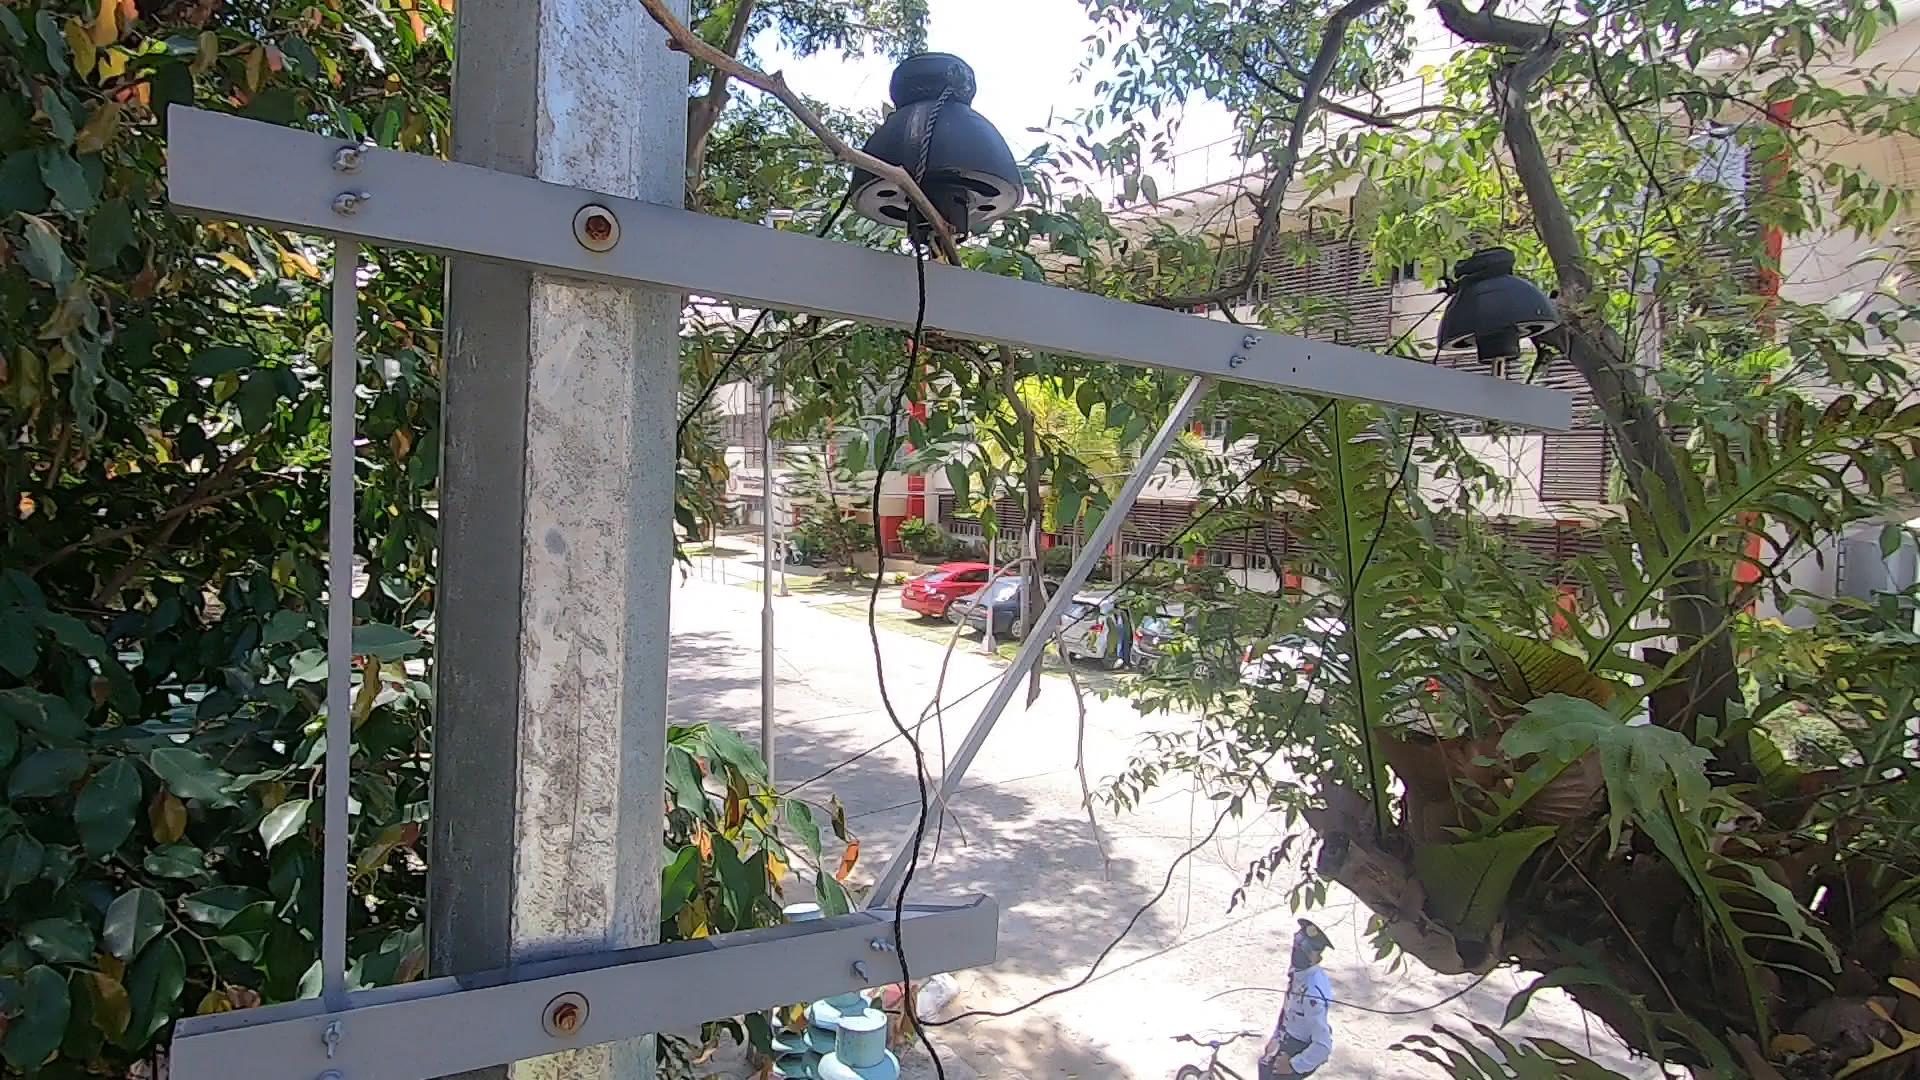branch with leaves: (752, 828, 874, 924)
tree branch: (620, 1, 1089, 732)
